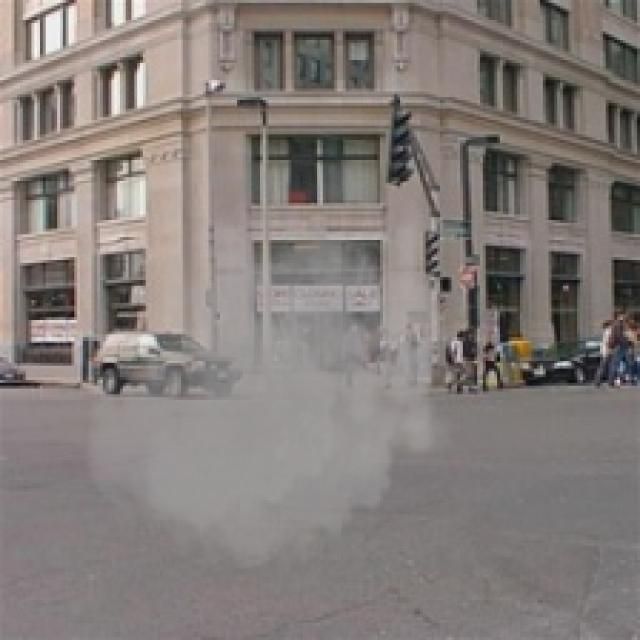smoke: (74, 191, 463, 583)
